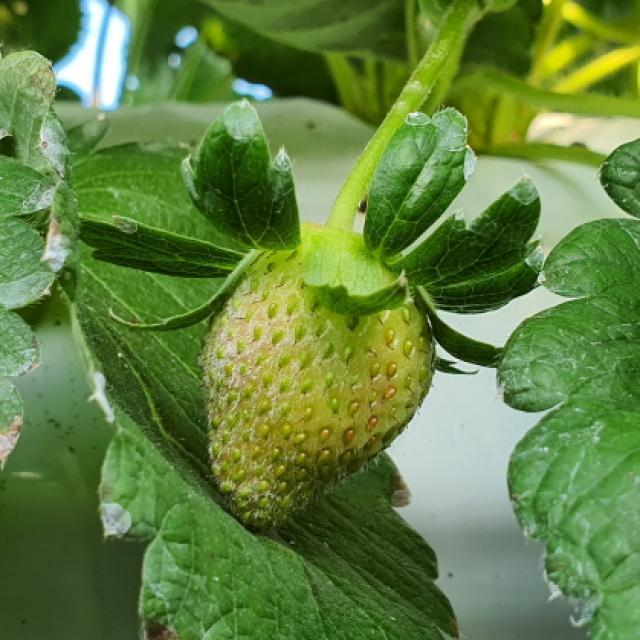Powdery Mildew Fruit: (200, 275, 354, 529)
